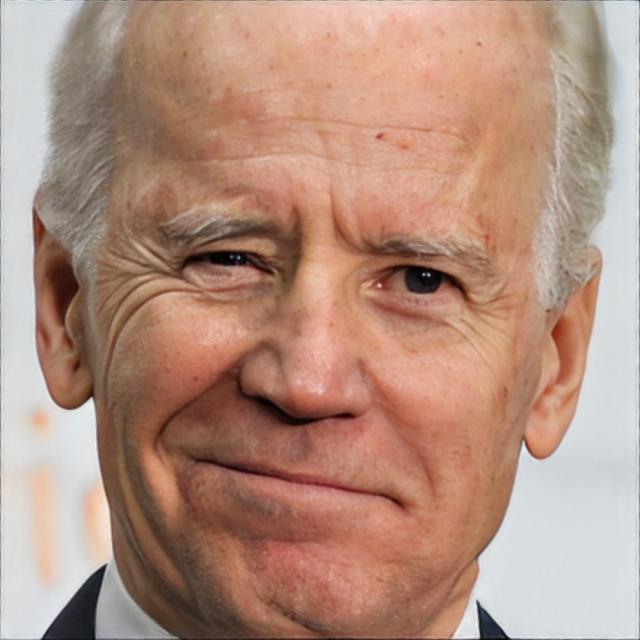content: (84, 0, 558, 640)
